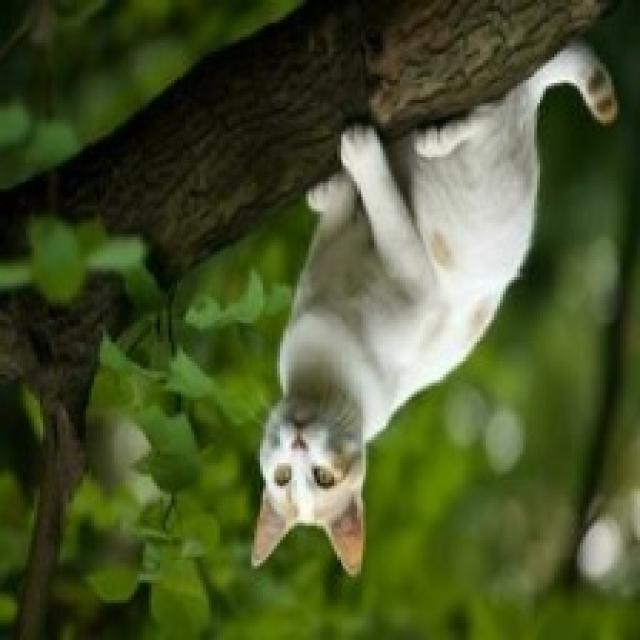bear: (169, 17, 609, 594)
